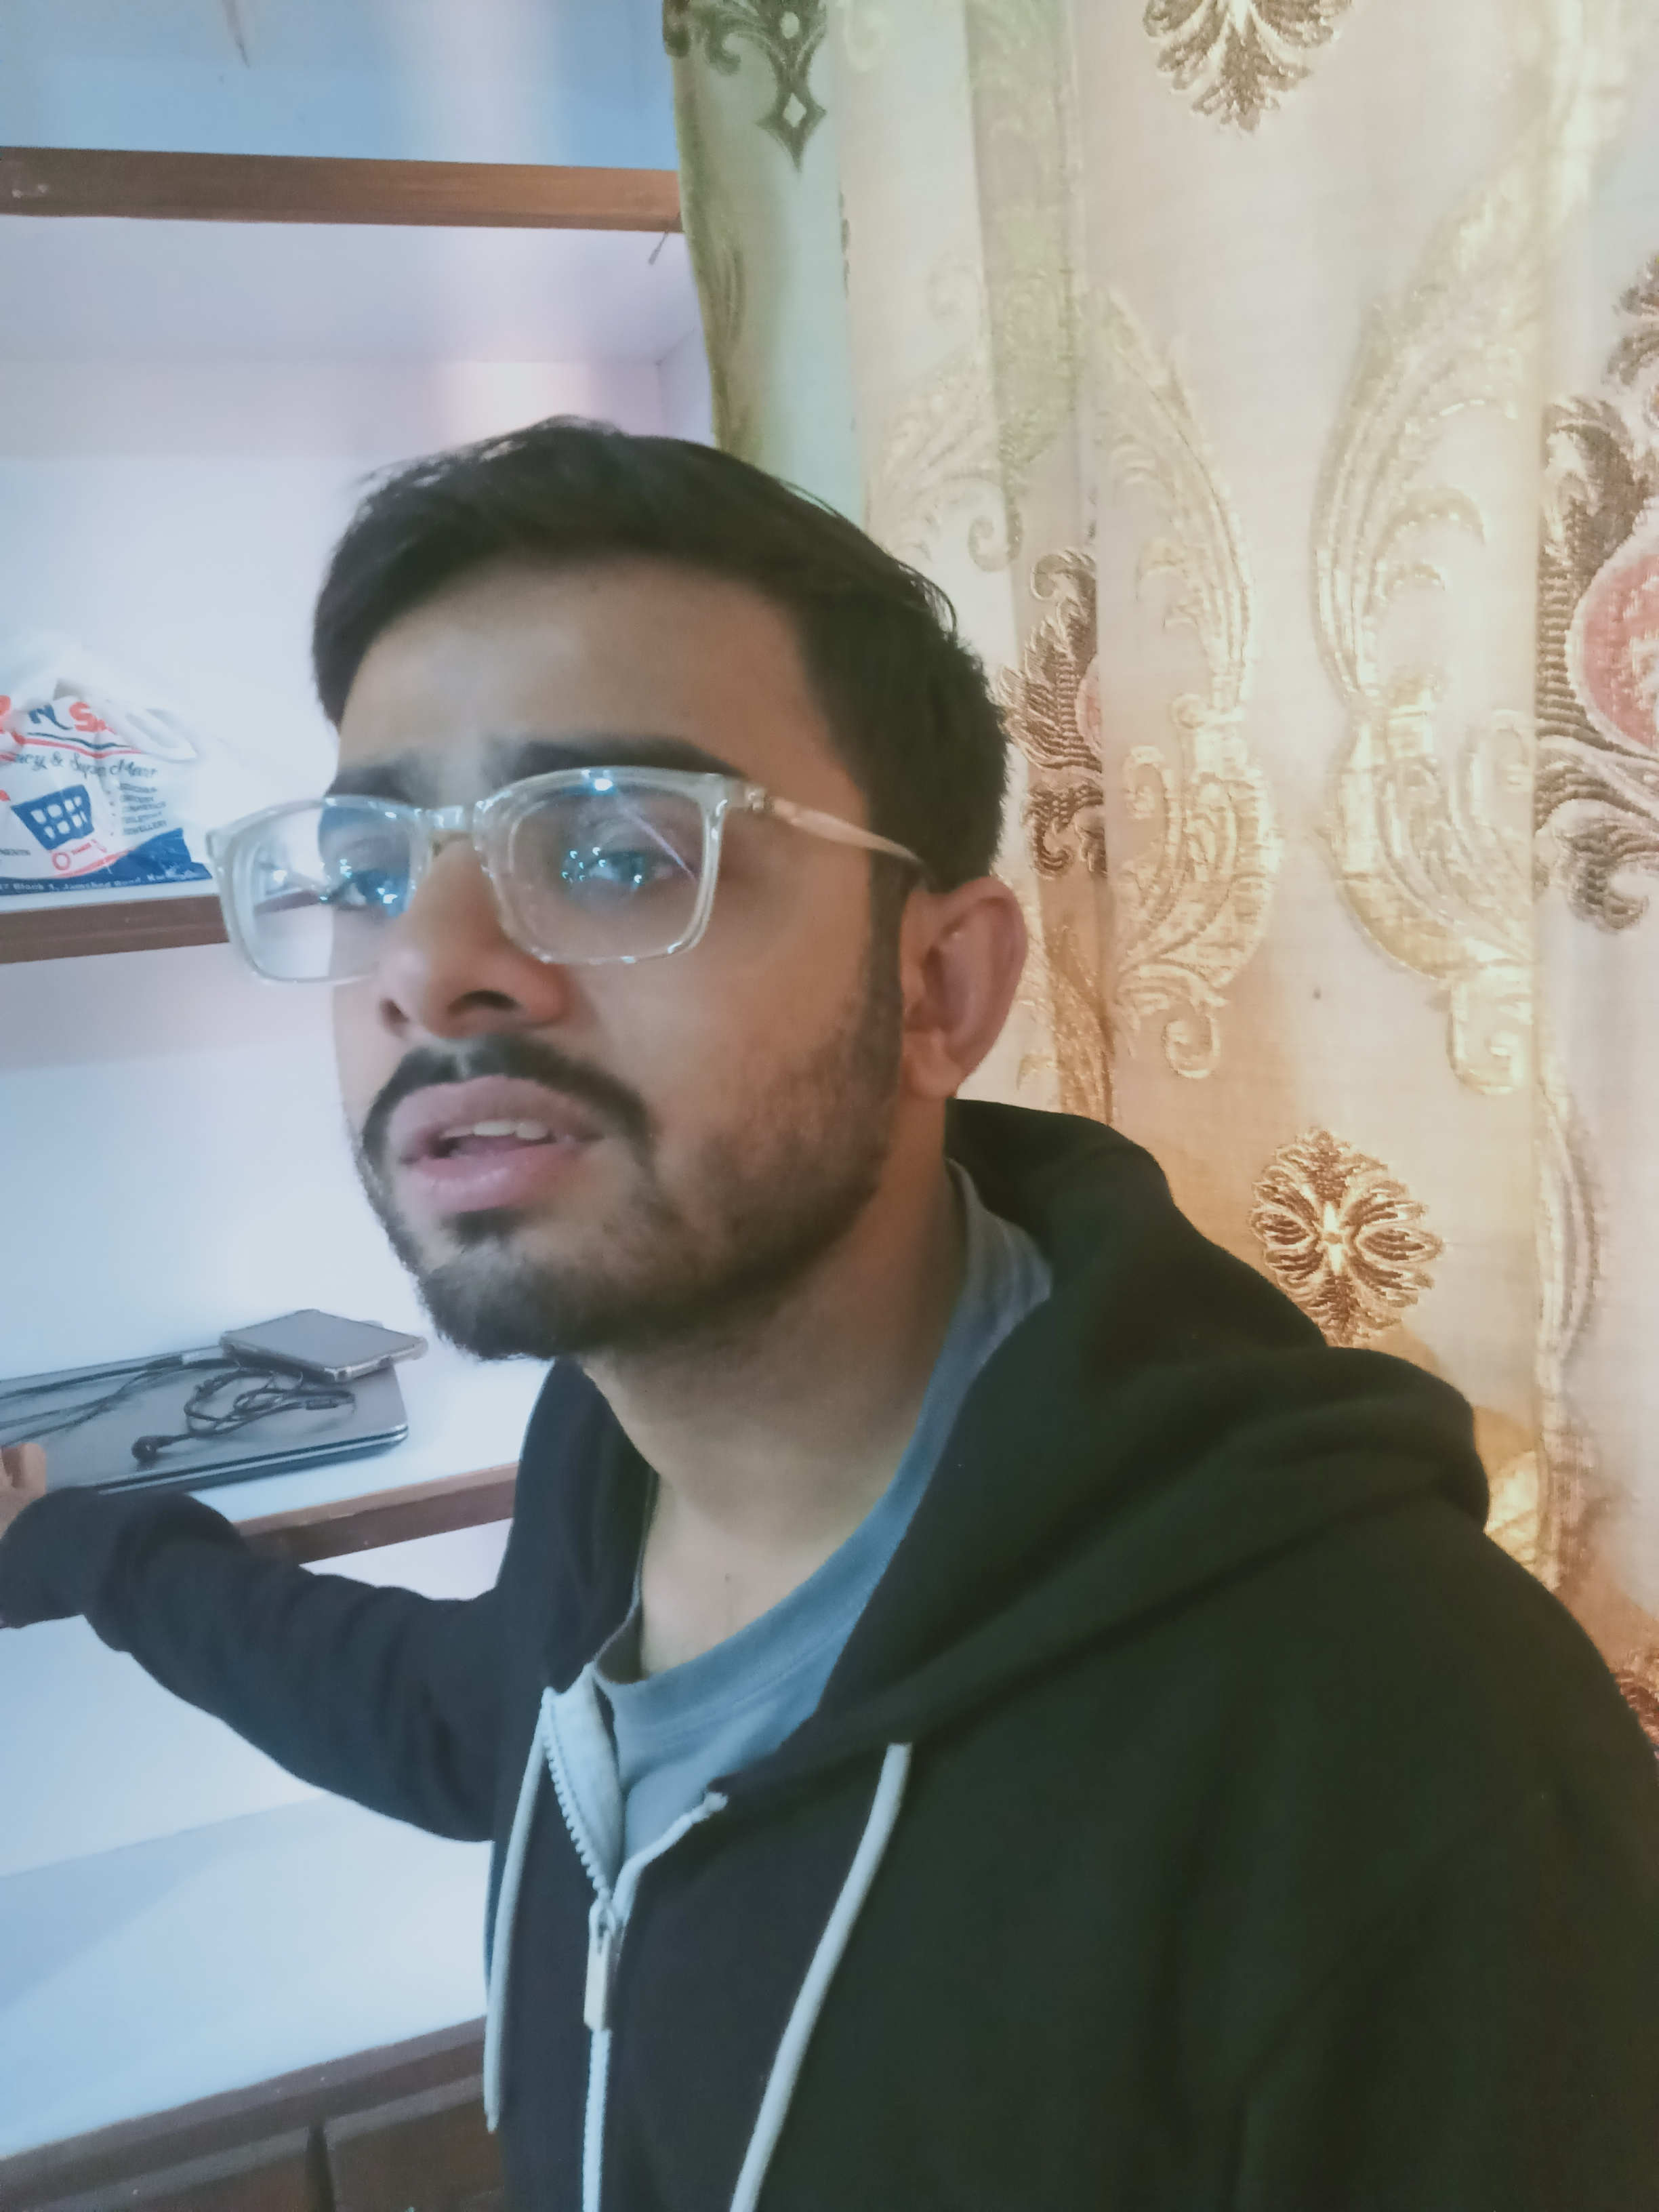NoMask: (325, 699, 840, 1347)
